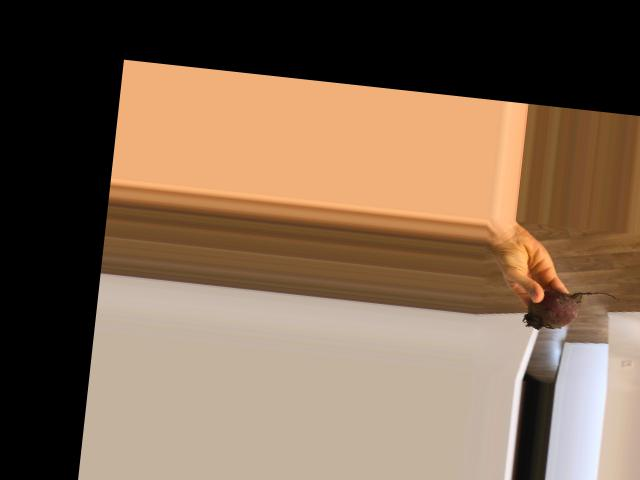beet: (523, 284, 620, 337)
